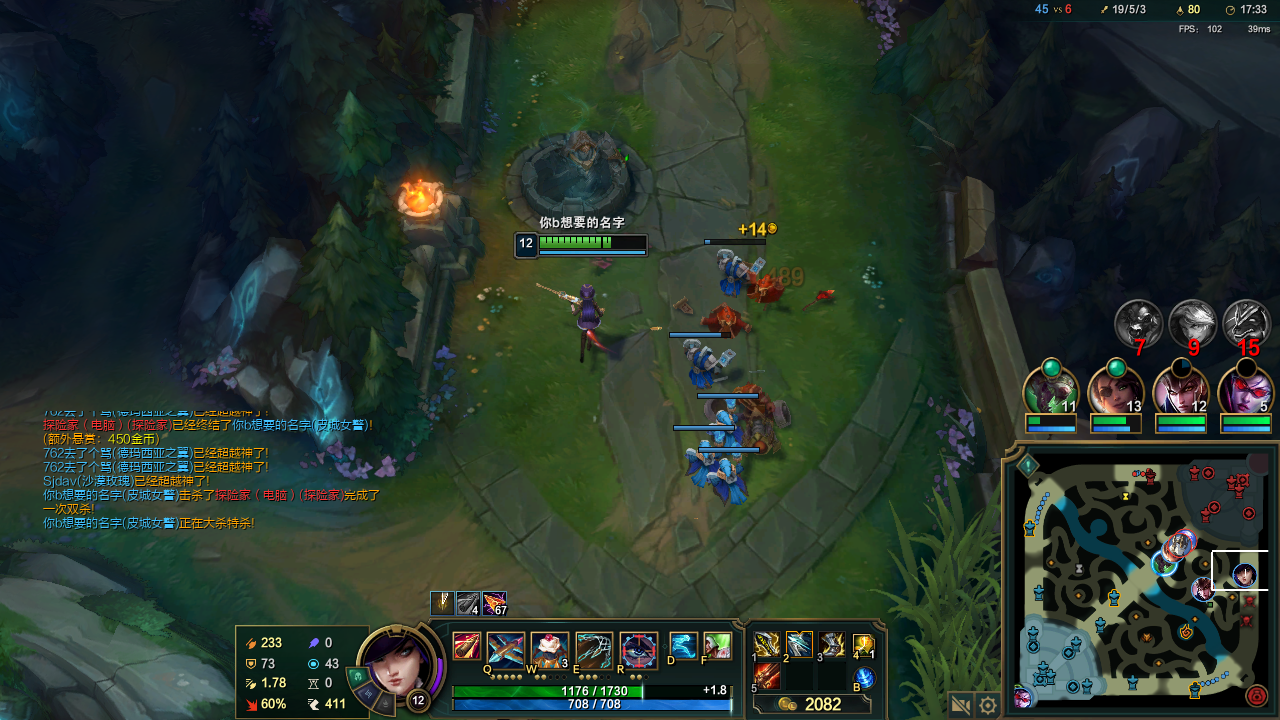KF: (786, 638, 810, 651)
WFXB: (683, 343, 736, 390), (707, 464, 751, 505), (686, 439, 721, 485), (709, 252, 750, 289), (709, 408, 739, 439)
